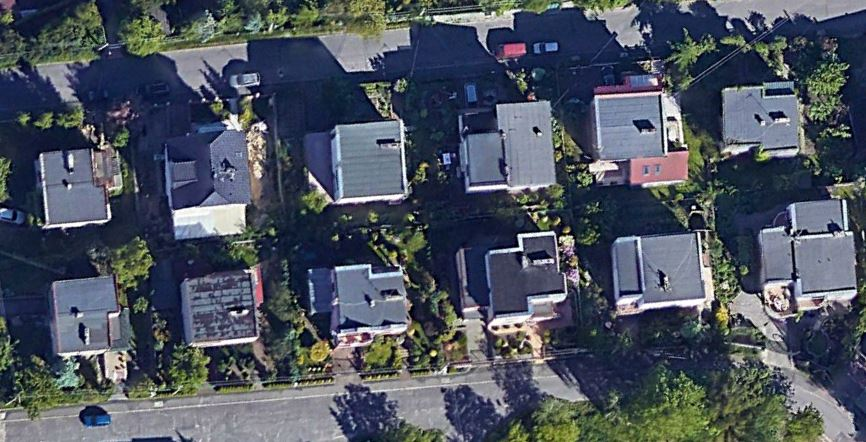family house: (587, 63, 695, 189), (458, 223, 572, 337), (754, 194, 863, 311), (160, 127, 256, 244), (456, 96, 560, 197), (302, 113, 410, 210), (301, 260, 414, 349), (607, 225, 713, 314), (29, 143, 123, 230), (45, 272, 139, 356), (718, 76, 804, 161), (176, 269, 265, 350)
